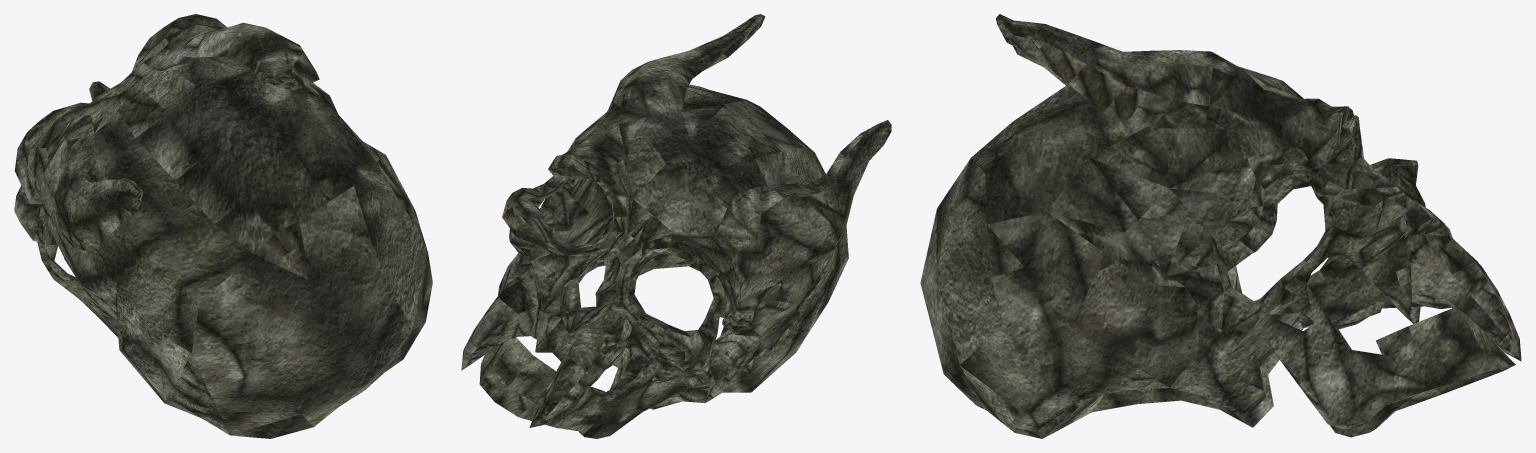
3 renders of one model, left to right at view 1: azimuth 30°, elevation 25°; view 2: azimuth 150°, elevation 25°; view 3: azimuth 270°, elevation 25°, orthographic. The views are drawn at different scales.
Parts seen in each view (by area): view 1: mesh0; view 2: mesh0; view 3: mesh0.
Part boxes in pixels (<box>): mesh0: <box>14,14,432,438</box>; mesh0: <box>461,14,891,438</box>; mesh0: <box>920,14,1521,438</box>.
Size of the model in its own units: 4.46 by 4.75 by 6.23.
